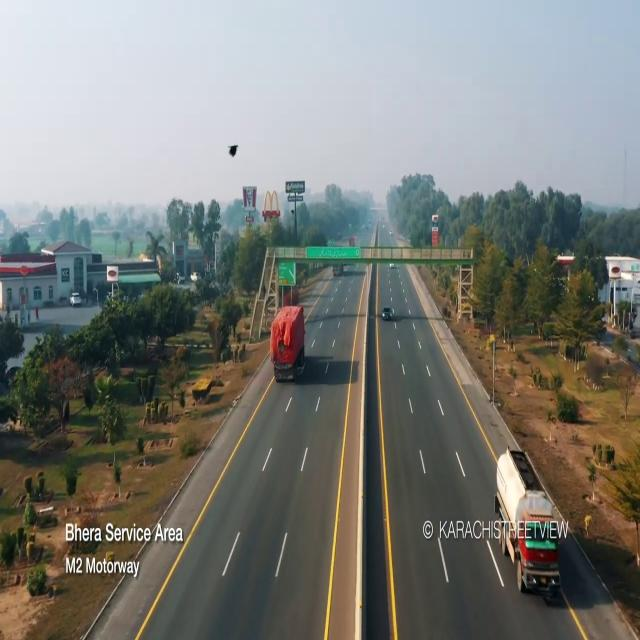car: (381, 304, 393, 324)
truck: (488, 442, 564, 596), (265, 298, 310, 382)
